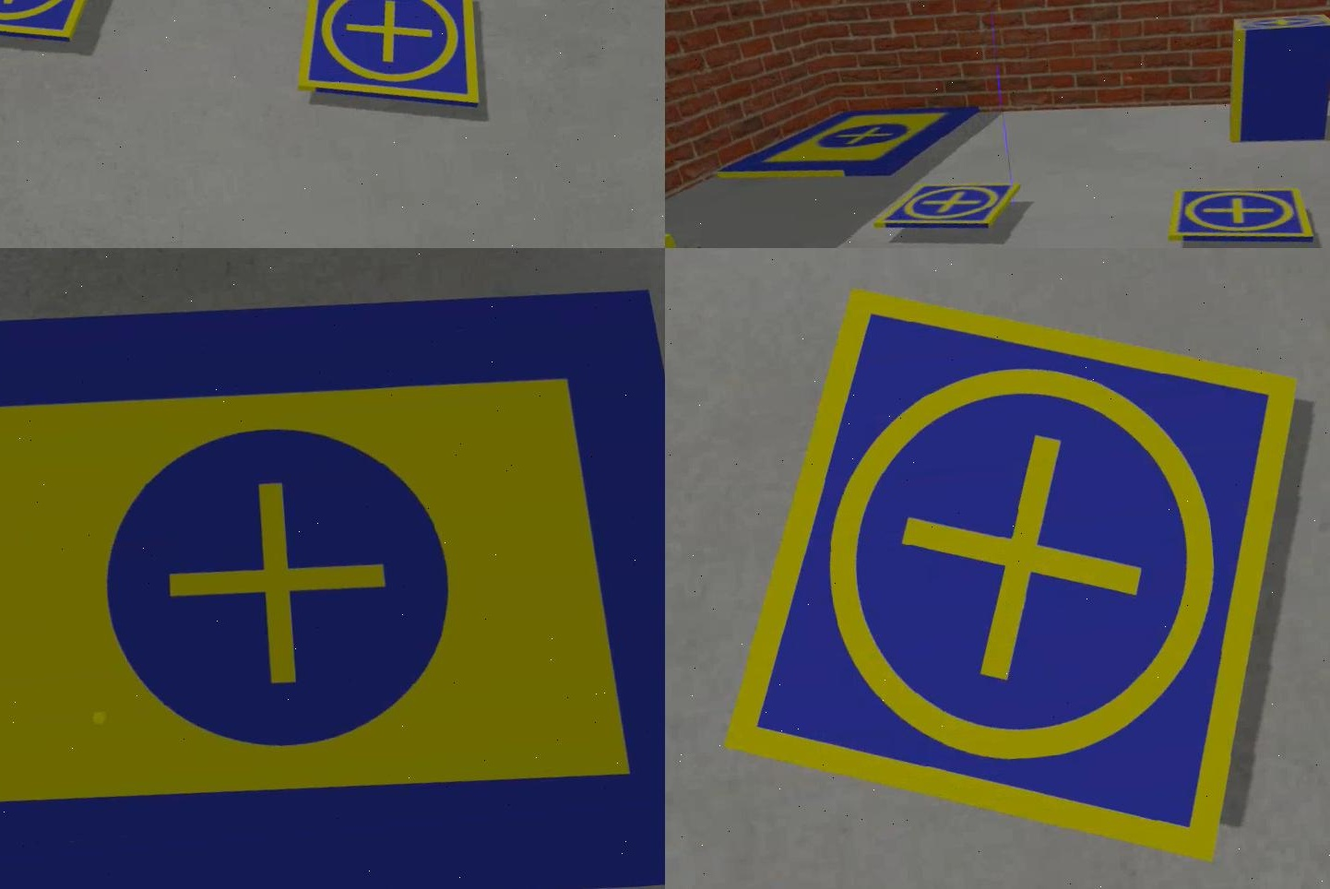large_base: (0, 256, 663, 889), (707, 96, 980, 192)
small_base: (681, 249, 1328, 889), (283, 1, 484, 127), (1163, 178, 1313, 249), (872, 179, 1020, 243), (0, 1, 119, 52), (1226, 8, 1328, 41)
